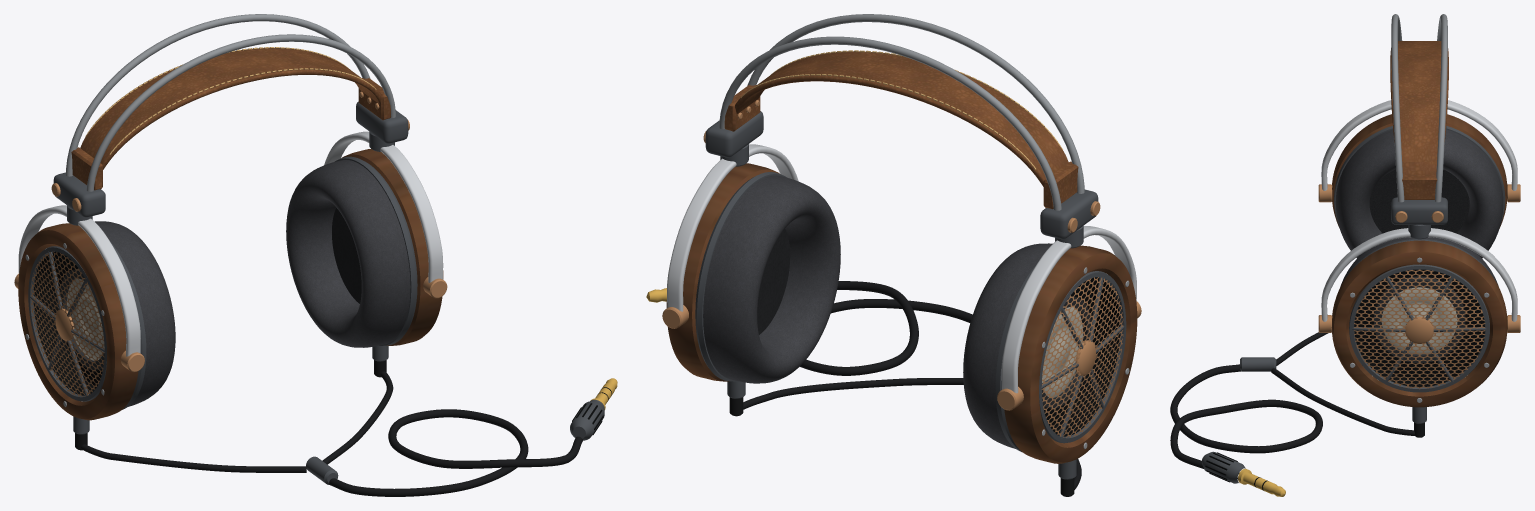
The model's file is studio-headphones.glb.
3 views of the same model, side by side, from view 1: azimuth 30°, elevation 25°; view 2: azimuth 150°, elevation 25°; view 3: azimuth 270°, elevation 25° (orthographic). The views are drawn at different scales.
Visible parts, largest first — view 1: Band, Cup_Left, Cup_Right, Cable; view 2: Band, Cup_Left, Cup_Right, Cable; view 3: Cup_Left, Band, Cup_Right, Cable.
Part boxes in pixels (x1=…): Band: x1=14, y1=14, x2=447, y2=371; Cup_Left: x1=286, y1=149, x2=443, y2=377; Cup_Right: x1=18, y1=221, x2=175, y2=450; Cable: x1=81, y1=371, x2=617, y2=496; Band: x1=662, y1=14, x2=1141, y2=410; Cup_Left: x1=666, y1=163, x2=840, y2=416; Cup_Right: x1=963, y1=243, x2=1137, y2=496; Cable: x1=646, y1=281, x2=1081, y2=489; Cup_Left: x1=1331, y1=237, x2=1507, y2=437; Band: x1=1318, y1=14, x2=1520, y2=332; Cup_Right: x1=1332, y1=114, x2=1507, y2=258; Cable: x1=1170, y1=332, x2=1414, y2=496.
Bounding box in the file's own units: 0.2824 × 0.2159 × 0.2028.
17 materials, 5 textured.
